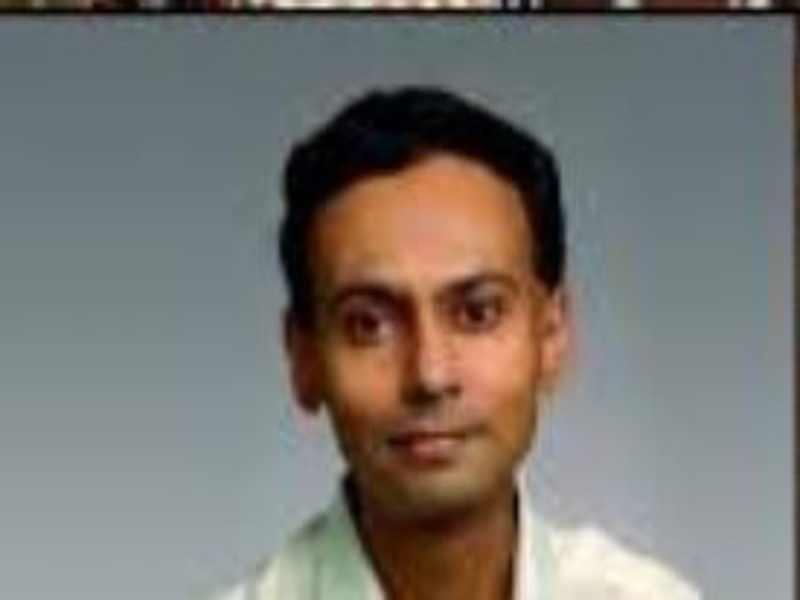TsisyArotava: (268, 82, 601, 548)
